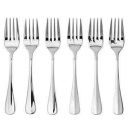fork: (107, 7, 126, 117)
